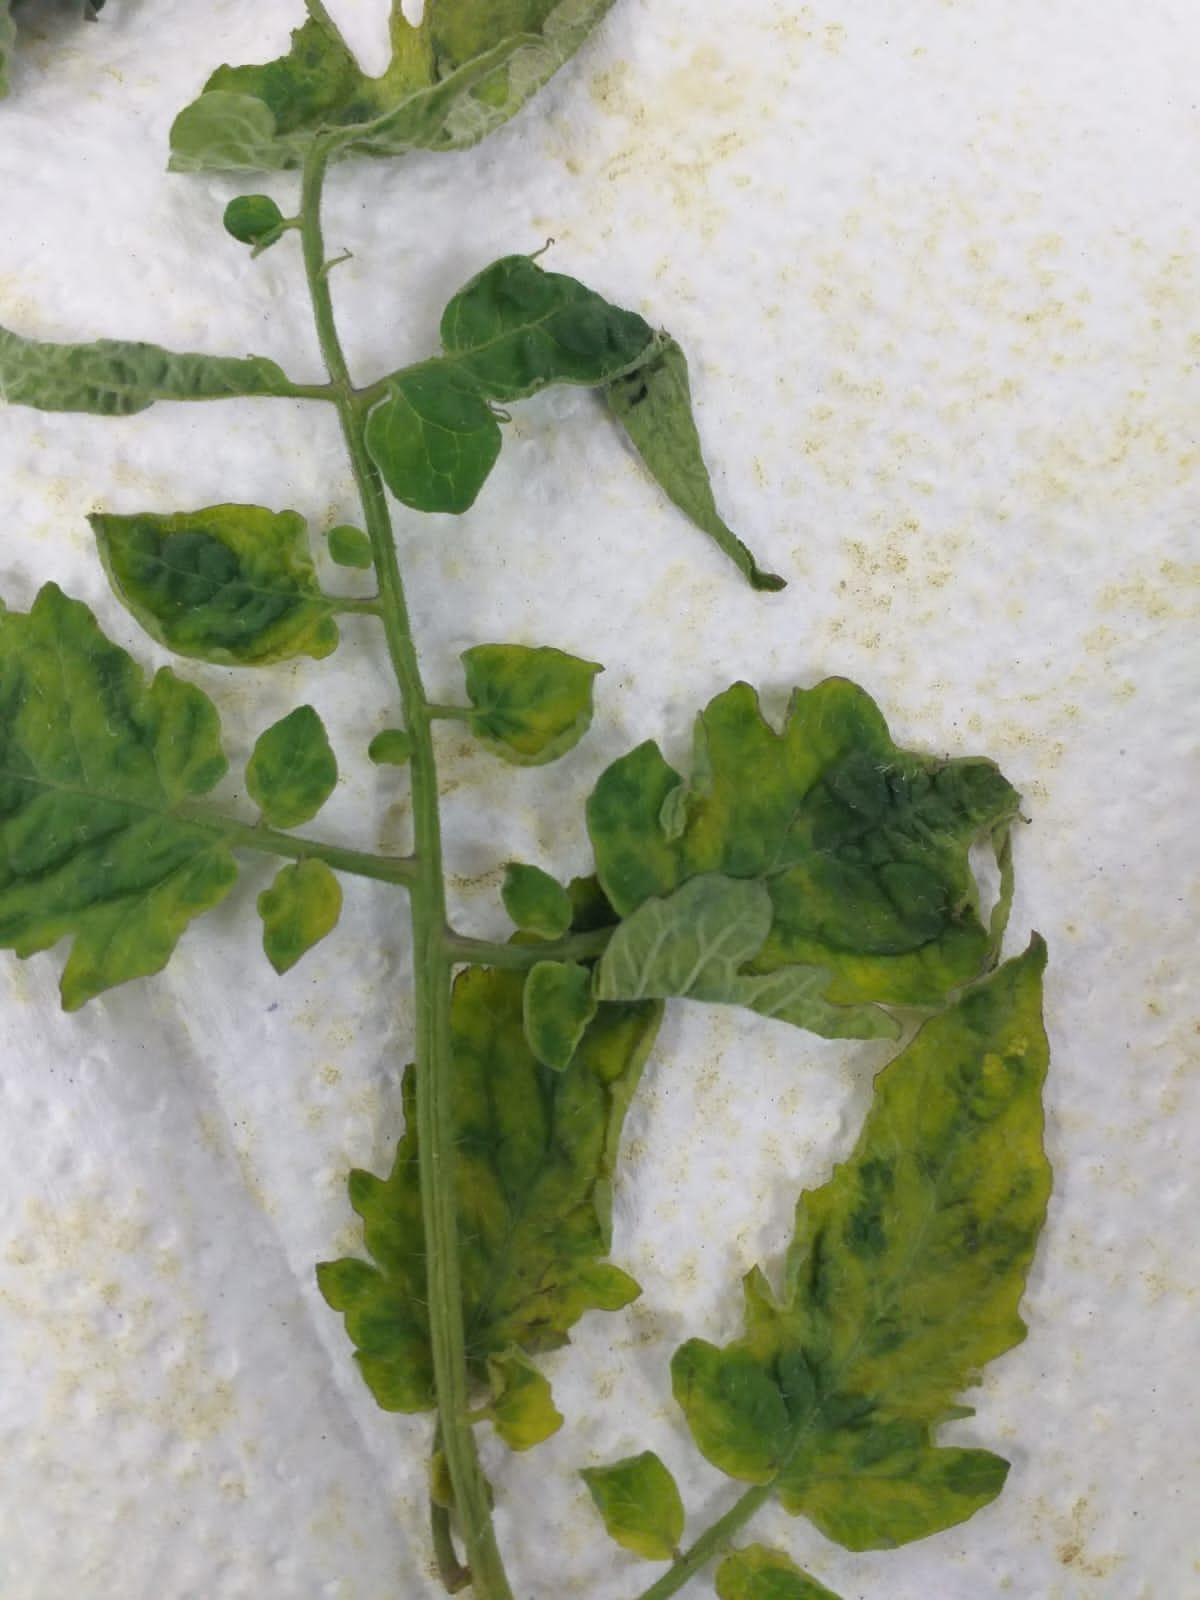Hoja: (366, 359, 503, 513)
Hoja rugoso: (672, 941, 1050, 1550), (587, 677, 1018, 1007), (450, 968, 661, 1450), (91, 503, 344, 665), (316, 1076, 434, 1412), (439, 253, 655, 401), (463, 644, 601, 766)
Pedunculo rugoso: (416, 1026, 513, 1600), (359, 479, 450, 1003)
